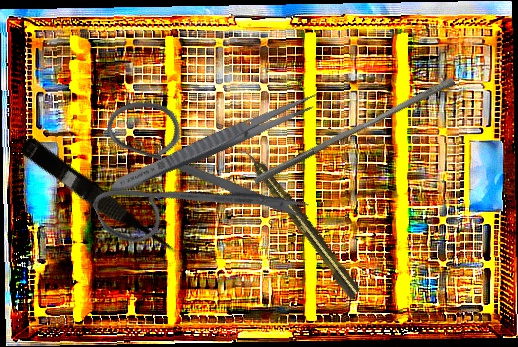Dressing Forceps: (107, 86, 323, 200)
Handpiece: (237, 141, 364, 302)
Iris Scissors: (60, 52, 314, 299)
Micro Scissor: (14, 134, 184, 267)
Pusher: (252, 70, 457, 193)
